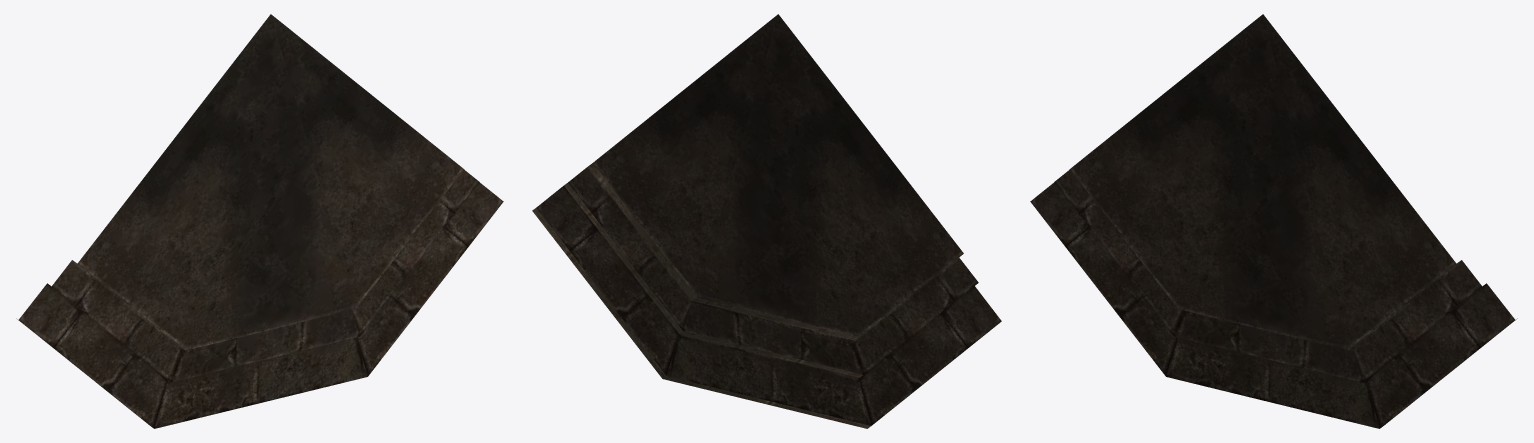
3 views of the same model, side by side, from view 1: azimuth 30°, elevation 25°; view 2: azimuth 150°, elevation 25°; view 3: azimuth 330°, elevation 25° (orthographic). The views are drawn at different scales.
Visible parts, largest first — view 1: model_Object50; view 2: model_Object50; view 3: model_Object50.
Part boxes in pixels (x1=…): model_Object50: x1=16, y1=14, x2=503, y2=428; model_Object50: x1=532, y1=14, x2=1001, y2=428; model_Object50: x1=1030, y1=14, x2=1517, y2=428.
Size of the model in its own units: 6.93 by 5.4 by 0.3462.
Materials: 1 (1 with a texture image).
